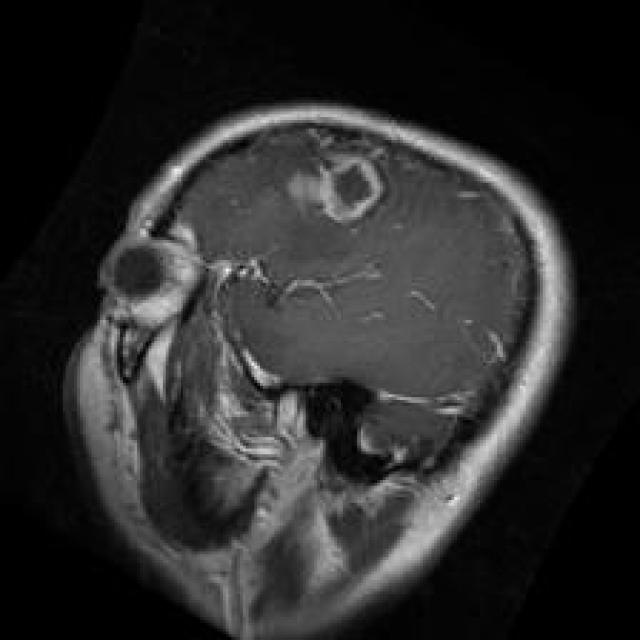glioma_tumor: (269, 124, 406, 234)
